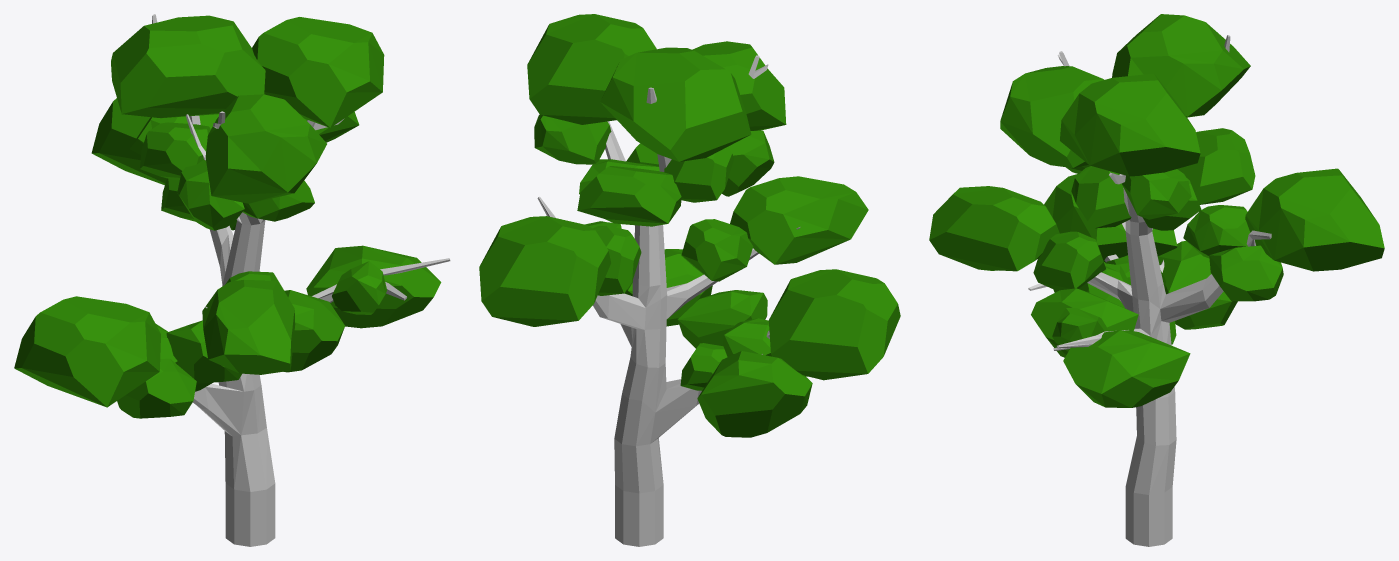
Rendered from Bereza.fbx.
3 views of the same model, side by side, from view 1: azimuth 30°, elevation 25°; view 2: azimuth 150°, elevation 25°; view 3: azimuth 270°, elevation 25° (orthographic). The views are drawn at different scales.
Parts seen in each view (by area): view 1: Цилиндр, Куб_4, Куб_16, Куб_3, Куб_5, Куб_22, Куб_13, Куб_14, Куб_18, Куб_6, Куб, Куб_7 (+6 smaller); view 2: Цилиндр, Куб_4, Куб, Куб_16, Куб_3, Куб_22, Куб_17, Куб_11, Куб_5, Куб_19, Куб_23, Куб_8 (+7 smaller); view 3: Цилиндр, Куб_3, Куб, Куб_22, Куб_4, Куб_13, Куб_5, Куб_11, Куб_1, Куб_23, Куб_16, Куб_17 (+7 smaller).
Part boxes in pixels (x1,y1,x2,y2): Цилиндр: [152, 14, 450, 546]; Куб_4: [111, 15, 265, 118]; Куб_16: [14, 296, 160, 407]; Куб_3: [252, 17, 384, 127]; Куб_5: [205, 94, 326, 203]; Куб_22: [202, 280, 295, 374]; Куб_13: [306, 245, 441, 328]; Куб_14: [283, 290, 344, 372]; Куб_18: [117, 358, 196, 418]; Куб_6: [140, 122, 210, 180]; Куб: [91, 98, 166, 185]; Куб_7: [177, 160, 244, 230]; Цилиндр: [537, 55, 800, 546]; Куб_4: [600, 47, 751, 161]; Куб: [479, 216, 610, 326]; Куб_16: [768, 269, 900, 380]; Куб_3: [527, 14, 656, 124]; Куб_22: [730, 176, 868, 264]; Куб_17: [697, 351, 812, 437]; Куб_11: [577, 166, 681, 226]; Куб_5: [692, 41, 786, 130]; Куб_19: [677, 290, 767, 348]; Куб_23: [681, 219, 753, 281]; Куб_8: [534, 114, 611, 164]; Цилиндр: [1028, 35, 1271, 546]; Куб_3: [1060, 73, 1200, 176]; Куб: [1245, 168, 1384, 271]; Куб_22: [929, 186, 1059, 271]; Куб_4: [1112, 14, 1250, 117]; Куб_13: [1063, 330, 1190, 407]; Куб_5: [1000, 66, 1104, 167]; Куб_11: [1177, 128, 1255, 204]; Куб_1: [1209, 245, 1283, 301]; Куб_23: [1033, 231, 1105, 291]; Куб_16: [1044, 174, 1177, 262]; Куб_17: [1158, 241, 1237, 329].
Bounding box in the file's own units: 740 × 893 × 762.
